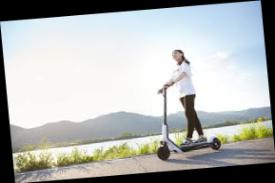nonhelmet: (144, 46, 225, 162)
